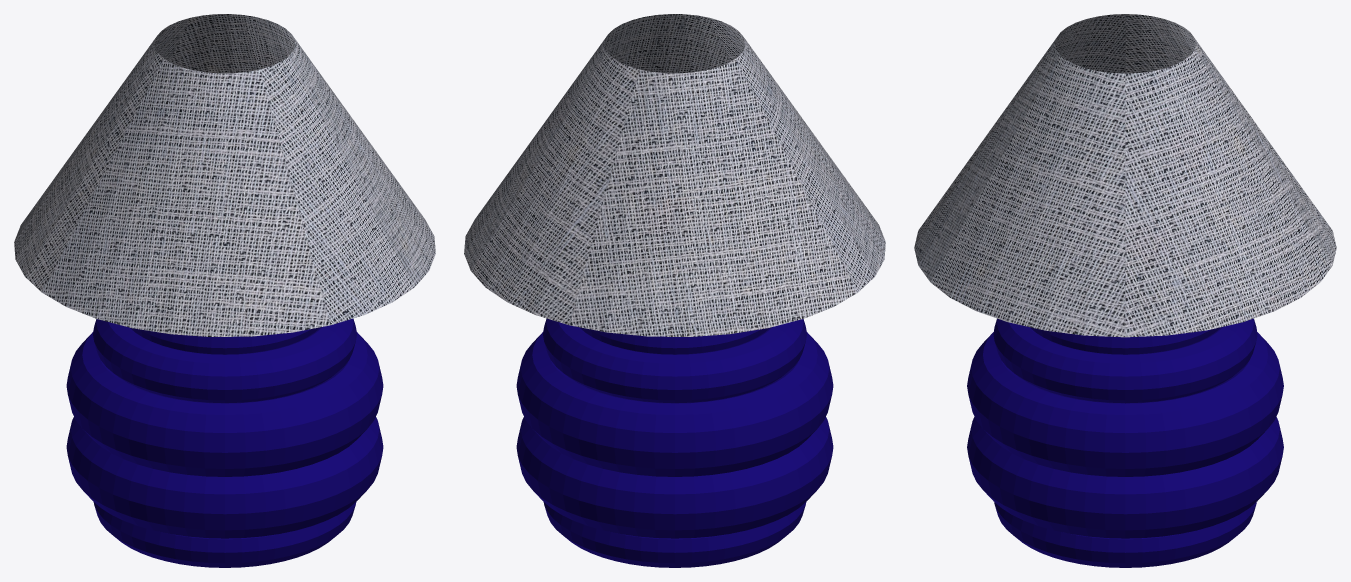
Rendered from Lamp_Table.glb.
The picture shows the model from 3 angles, left to right: view 1: azimuth 30°, elevation 25°; view 2: azimuth 150°, elevation 25°; view 3: azimuth 270°, elevation 25°; orthographic projection.
Parts seen in each view (by area): view 1: TableLamp; view 2: TableLamp; view 3: TableLamp.
Boxes of the visible parts, bbox=[...] form: TableLamp: bbox=[14, 14, 435, 567]; TableLamp: bbox=[464, 14, 885, 567]; TableLamp: bbox=[914, 14, 1336, 567].
Size of the model in its own units: 0.6853 by 0.8538 by 0.6853.
Materials: 3 (1 with a texture image).
